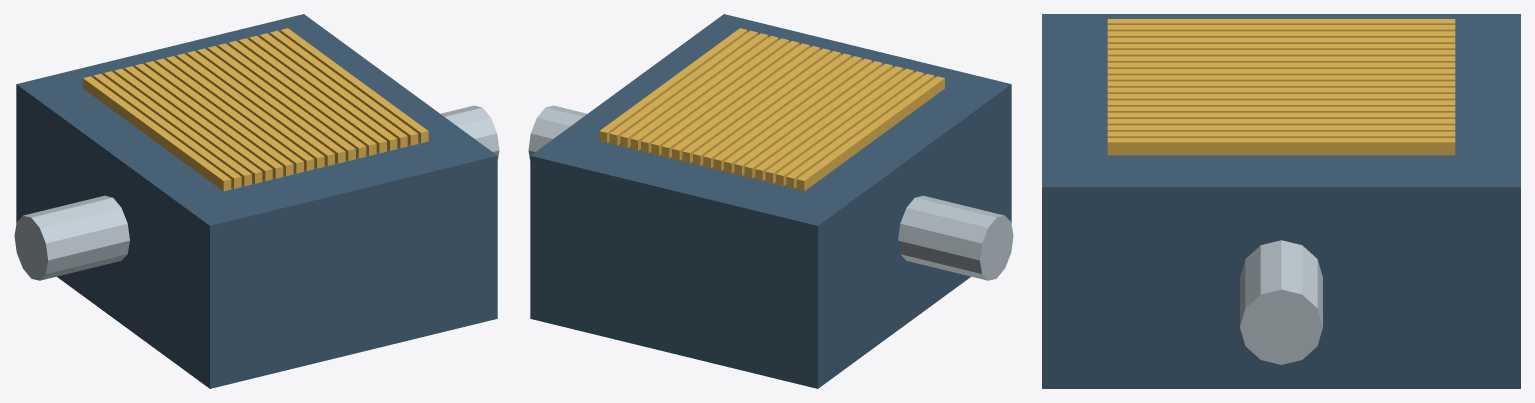
The model's file is 19_L79_NanoXPositioningActuator.fbx.
3 renders of one model, left to right at view 1: azimuth 30°, elevation 25°; view 2: azimuth 150°, elevation 25°; view 3: azimuth 270°, elevation 25°, orthographic. The views are drawn at different scales.
Visible parts, largest first — view 1: NanoXPositioningActuator; view 2: NanoXPositioningActuator; view 3: NanoXPositioningActuator.
Part boxes in pixels (<box>): NanoXPositioningActuator: <box>14,14,499,388</box>; NanoXPositioningActuator: <box>528,14,1013,388</box>; NanoXPositioningActuator: <box>1042,14,1520,388</box>.
Size of the model in its own units: 113 by 42.75 by 84.
